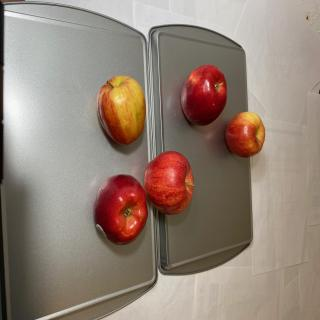Apple: (93, 174, 148, 245), (97, 75, 146, 145), (144, 151, 194, 215), (181, 64, 227, 126), (224, 111, 266, 158)
